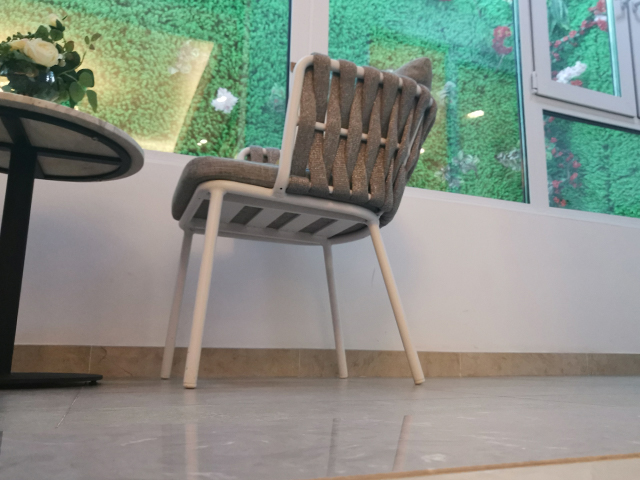stool: (157, 50, 438, 392)
table: (1, 91, 148, 390)
